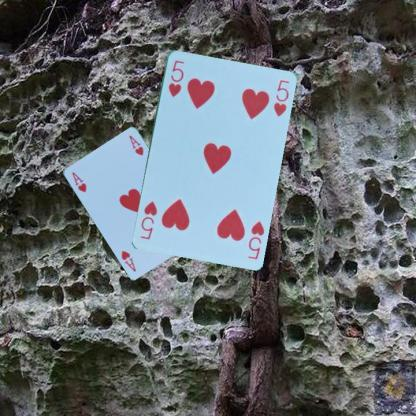5h: (245, 218, 266, 260), (165, 57, 185, 98)
Ah: (70, 169, 88, 194)
